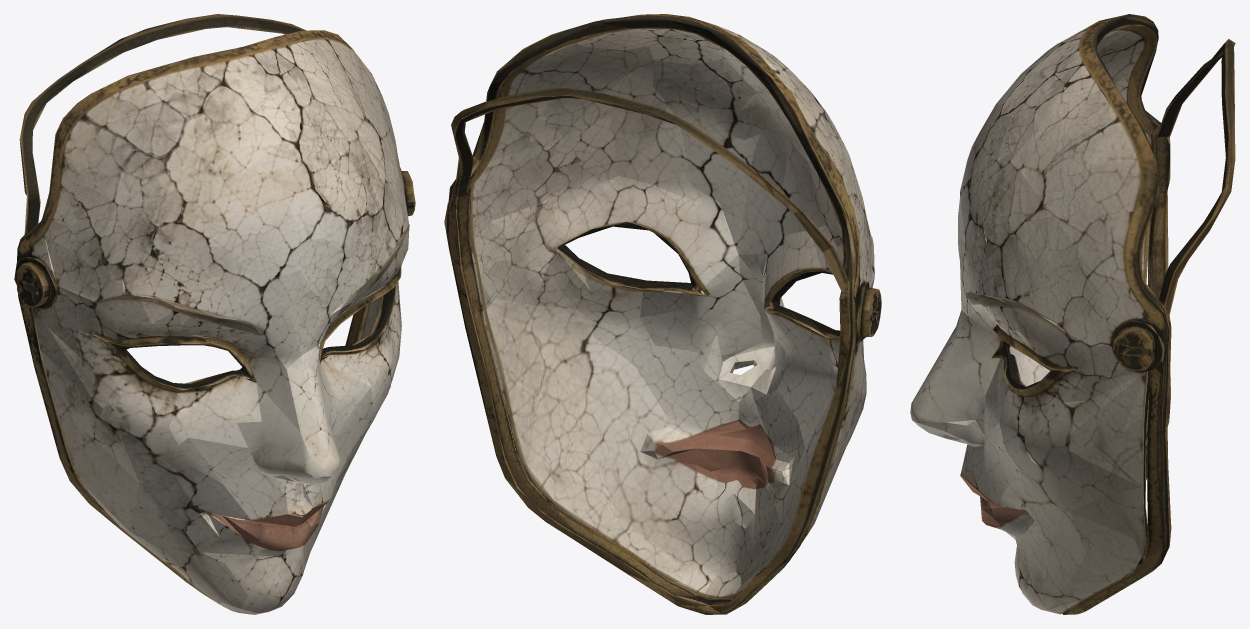
3 renders of one model, left to right at view 1: azimuth 30°, elevation 25°; view 2: azimuth 150°, elevation 25°; view 3: azimuth 270°, elevation 25°, orthographic. The views are drawn at different scales.
Parts seen in each view (by area): view 1: grace-3k; view 2: grace-3k; view 3: grace-3k.
Part boxes in pixels (x1=…): grace-3k: x1=14, y1=14, x2=415, y2=614; grace-3k: x1=444, y1=14, x2=881, y2=614; grace-3k: x1=910, y1=14, x2=1235, y2=614.
Bounding box in the file's own units: 1.4 × 1.9 × 0.9889.
1 material, 1 textured.
